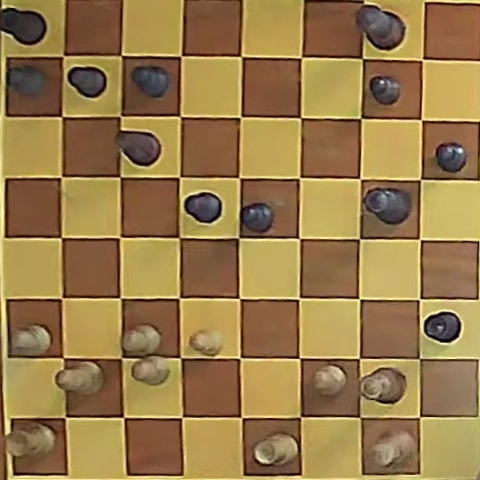black-king: (356, 4, 405, 50)
black-knight: (116, 131, 160, 167)
black-pawn: (67, 66, 107, 98), (131, 65, 169, 98), (8, 65, 47, 97), (184, 192, 222, 224), (241, 203, 273, 232), (435, 143, 467, 172), (370, 76, 401, 105)
black-queen: (363, 187, 410, 225)
black-rook: (1, 7, 47, 46), (423, 311, 461, 344)
white-bishop: (57, 362, 104, 394)
white-king: (370, 430, 417, 470)
white-pawn: (11, 324, 52, 356), (123, 324, 161, 355), (131, 356, 170, 385), (313, 365, 347, 396), (189, 329, 224, 356)
white-queen: (360, 368, 406, 404)
white-rook: (6, 422, 56, 459), (253, 432, 298, 466)
